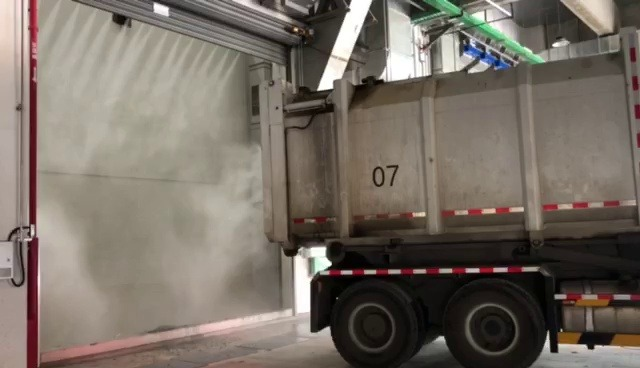dust: (39, 141, 272, 327)
truck: (276, 44, 639, 368)
